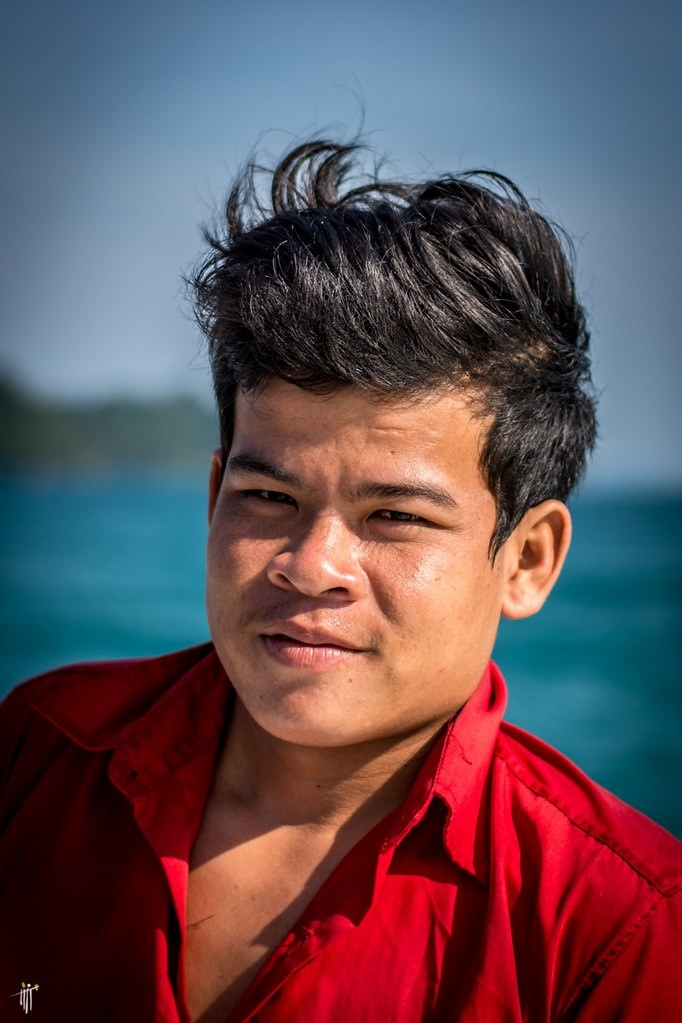face_no_mask: (204, 296, 588, 754)
